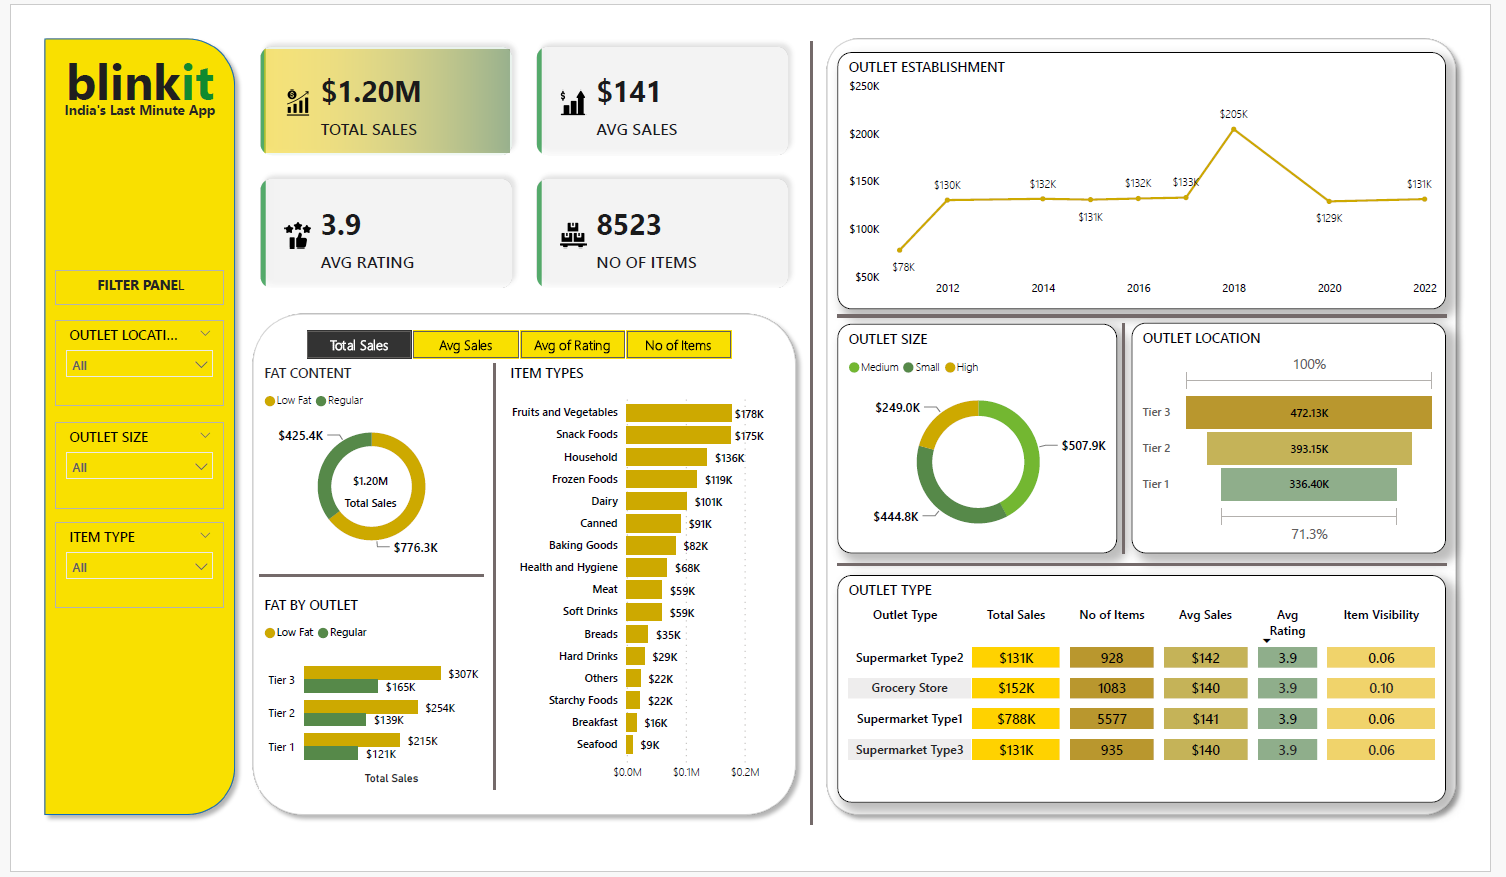

Layout of this report page (visuals, bound fields, positions):
{"tool":"powerbi","page":{"name":"Page 1","canvas":[1400,800],"ordinal":0},"visuals":[{"type":"shape","box":[0,0,203.7,778.3],"z":0},{"type":"textbox","box":[19,12.2,165.7,85.6],"z":1000},{"type":"textbox","box":[19,65.2,165.7,32.6],"z":2000},{"type":"cardVisual","fields":{"Data":["BlinkIT Grocery Data.Total Sales","BlinkIT Grocery Data.Avg Sales","BlinkIT Grocery Data.Avg of Rating","BlinkIT Grocery Data.No of Items"]},"box":[203.7,0,550.1,270.3],"z":3000},{"type":"shape","box":[203.7,270.3,550.1,508],"z":4000},{"type":"donutChart","title":"FAT CONTENT","fields":{"Y":["BlinkIT Grocery Data.Total Sales"],"Category":["BlinkIT Grocery Data.Item Fat Content"]},"box":[218.7,327.3,220,196.9],"z":5000},{"type":"slicer","fields":{"Values":["Metrics.Metrics"]},"box":[240.4,287.9,464.5,39.4],"z":6000},{"type":"card","fields":{"Values":["BlinkIT Grocery Data.Total Sales"]},"box":[290.7,426.5,74.7,50.3],"z":7000},{"type":"clusteredBarChart","title":"FAT BY OUTLET","fields":{"Y":["BlinkIT Grocery Data.Total Sales"],"Category":["BlinkIT Grocery Data.Outlet Location Type"],"Series":["BlinkIT Grocery Data.Item Fat Content"]},"box":[218.7,554.2,220,190.2],"z":8000},{"type":"shape","box":[218.7,514.8,220,39.4],"z":9000},{"type":"shape","box":[438.7,327.3,21.7,417],"z":10000},{"type":"clusteredBarChart","title":"ITEM TYPES","fields":{"Y":["BlinkIT Grocery Data.Total Sales"],"Category":["BlinkIT Grocery Data.Item Type"]},"box":[460.4,327.3,271.6,417],"z":11000},{"type":"shape","box":[753.8,12.2,12.2,766],"z":12000},{"type":"shape","box":[766,0,634.3,778.3],"z":13000},{"type":"lineChart","title":"OUTLET ESTABLISHMENT","fields":{"Category":["BlinkIT Grocery Data.Outlet Establishment Year"],"Y":["BlinkIT Grocery Data.Total Sales"]},"box":[785.1,21.7,596.3,252.6],"z":14000},{"type":"donutChart","title":"OUTLET SIZE","fields":{"Y":["BlinkIT Grocery Data.Total Sales"],"Category":["BlinkIT Grocery Data.Outlet Size"]},"box":[785.1,287.9,274.4,225.5],"z":15000},{"type":"shape","box":[1047.2,287.9,36.7,225.5],"z":16000},{"type":"funnel","title":"OUTLET LOCATION","fields":{"Category":["BlinkIT Grocery Data.Outlet Location Type"],"Y":["Sum(BlinkIT Grocery Data.Sales)"]},"box":[1073,286.6,308.3,226.8],"z":17000},{"type":"shape","box":[785.1,517.5,596.3,12.2],"z":18000},{"type":"shape","box":[785.1,274.4,596.3,12.2],"z":19000},{"type":"pivotTable","title":"OUTLET TYPE","fields":{"Values":["BlinkIT Grocery Data.Total Sales","BlinkIT Grocery Data.No of Items","BlinkIT Grocery Data.Avg Sales","BlinkIT Grocery Data.Avg of Rating","Avg(BlinkIT Grocery Data.Item Visibility)"],"Rows":["BlinkIT Grocery Data.Outlet Type"]},"box":[785.1,533.8,596.3,222.8],"z":20000},{"type":"slicer","fields":{"Values":["BlinkIT Grocery Data.Outlet Location Type"]},"box":[19,283.9,165.7,85.6],"z":21000},{"type":"slicer","title":"OUTLE`T SIZE","fields":{"Values":["BlinkIT Grocery Data.Outlet Size"]},"box":[19,384.4,165.7,84.2],"z":21001},{"type":"slicer","title":"OUTLE`T SIZE","fields":{"Values":["BlinkIT Grocery Data.Item Type"]},"box":[19,482.2,165.7,84.2],"z":21002},{"type":"textbox","box":[19,235,165.7,35.3],"z":21003}]}

Visuals, with their boxes in screenshot pixels (x1, y1, x2, y2), scaled from the page's 1400x800 canvas onto the 1506x877 screenshot:
shape: crop(0, 0, 219, 853)
textbox: crop(20, 13, 199, 107)
textbox: crop(20, 71, 199, 107)
cardVisual - BlinkIT Grocery Data.Total Sales x BlinkIT Grocery Data.Avg Sales: crop(219, 0, 811, 296)
shape: crop(219, 296, 811, 853)
"FAT CONTENT" donutChart: crop(235, 359, 472, 575)
slicer - Metrics.Metrics: crop(259, 316, 758, 359)
card - BlinkIT Grocery Data.Total Sales: crop(313, 468, 393, 523)
"FAT BY OUTLET" clusteredBarChart: crop(235, 608, 472, 816)
shape: crop(235, 564, 472, 608)
shape: crop(472, 359, 495, 816)
"ITEM TYPES" clusteredBarChart: crop(495, 359, 787, 816)
shape: crop(811, 13, 824, 853)
shape: crop(824, 0, 1505, 853)
"OUTLET ESTABLISHMENT" lineChart: crop(845, 24, 1486, 301)
"OUTLET SIZE" donutChart: crop(845, 316, 1140, 563)
shape: crop(1126, 316, 1166, 563)
"OUTLET LOCATION" funnel: crop(1154, 314, 1486, 563)
shape: crop(845, 567, 1486, 581)
shape: crop(845, 301, 1486, 314)
"OUTLET TYPE" pivotTable: crop(845, 585, 1486, 829)
slicer - BlinkIT Grocery Data.Outlet Location Type: crop(20, 311, 199, 405)
"OUTLE`T SIZE" slicer: crop(20, 421, 199, 514)
"OUTLE`T SIZE" slicer: crop(20, 529, 199, 621)
textbox: crop(20, 258, 199, 296)
